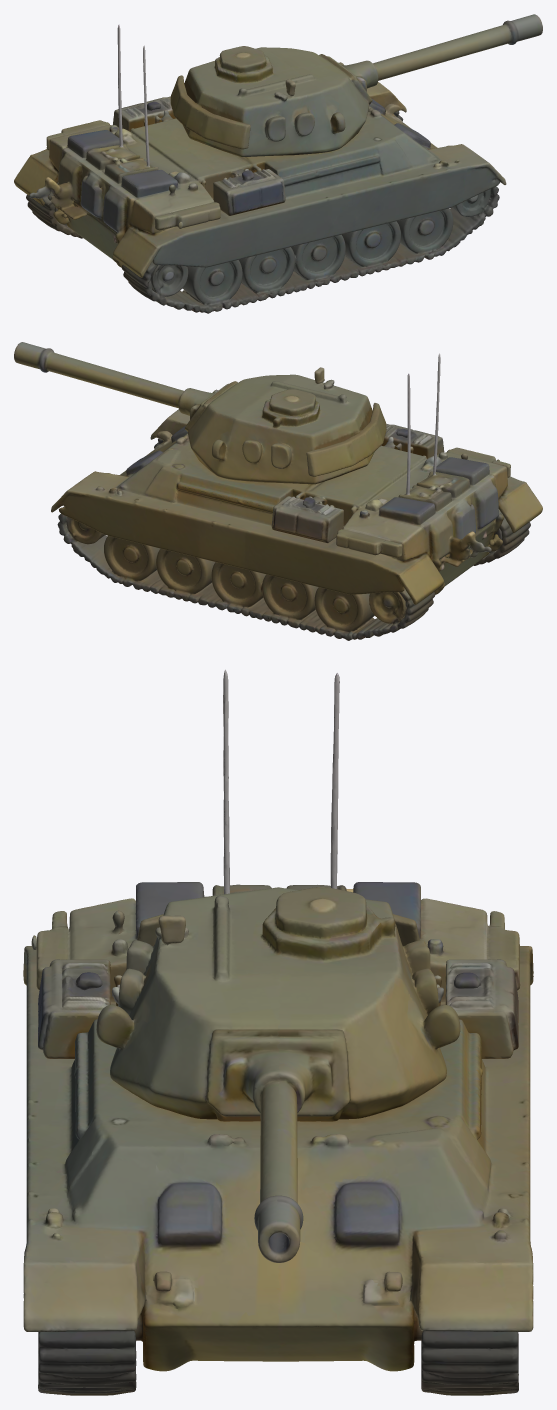
File: tank.glb
3 views of the same model, one above another, from view 1: azimuth 30°, elevation 25°; view 2: azimuth 150°, elevation 25°; view 3: azimuth 270°, elevation 25° (orthographic). The views are drawn at different scales.
Parts seen in each view (by area): view 1: tripo_node_ec92d827-25ce-4c18-a75d-5c49fbe9f498; view 2: tripo_node_ec92d827-25ce-4c18-a75d-5c49fbe9f498; view 3: tripo_node_ec92d827-25ce-4c18-a75d-5c49fbe9f498.
Part boxes in pixels (<box>): tripo_node_ec92d827-25ce-4c18-a75d-5c49fbe9f498: <box>14,14,542,313</box>; tripo_node_ec92d827-25ce-4c18-a75d-5c49fbe9f498: <box>14,342,542,640</box>; tripo_node_ec92d827-25ce-4c18-a75d-5c49fbe9f498: <box>23,669,533,1395</box>.
Size of the model in its own units: 1 by 0.468 by 0.4496.
1 material, 1 textured.
